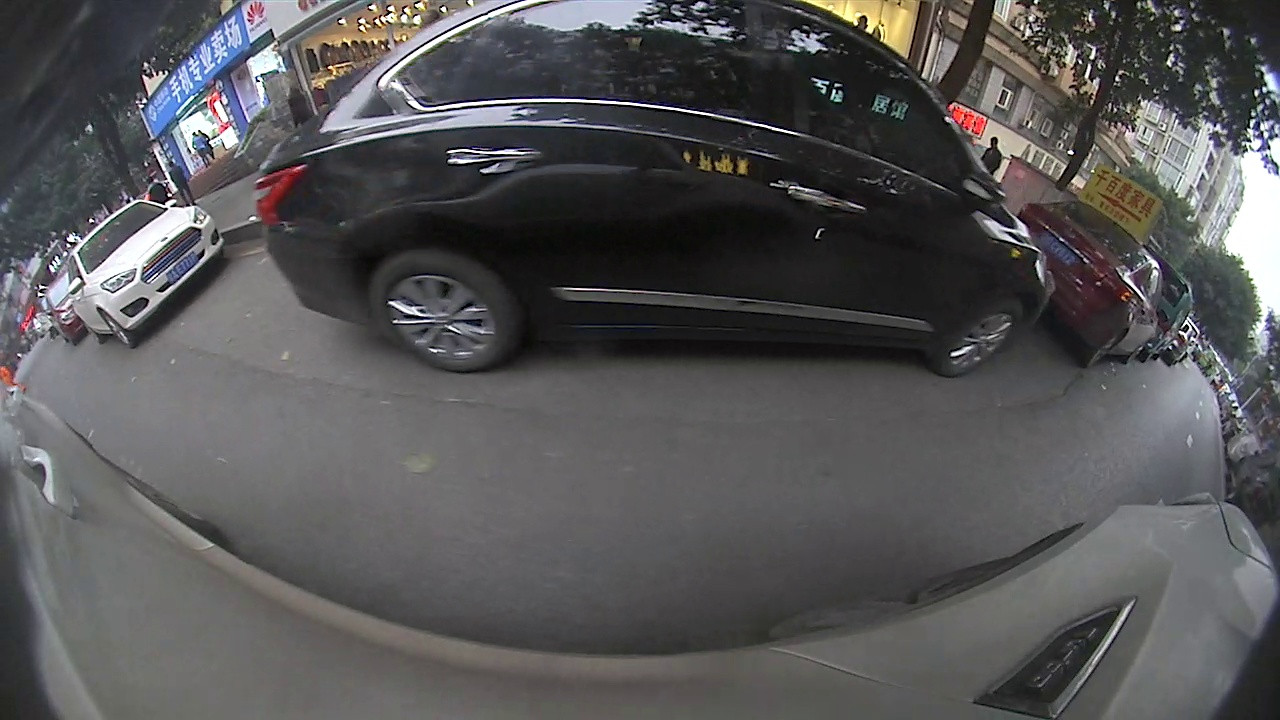car: (252, 1, 1058, 378), (1014, 198, 1164, 366), (63, 197, 229, 347)
front: (938, 297, 1025, 379), (97, 309, 132, 349)
rear: (367, 247, 521, 374)
